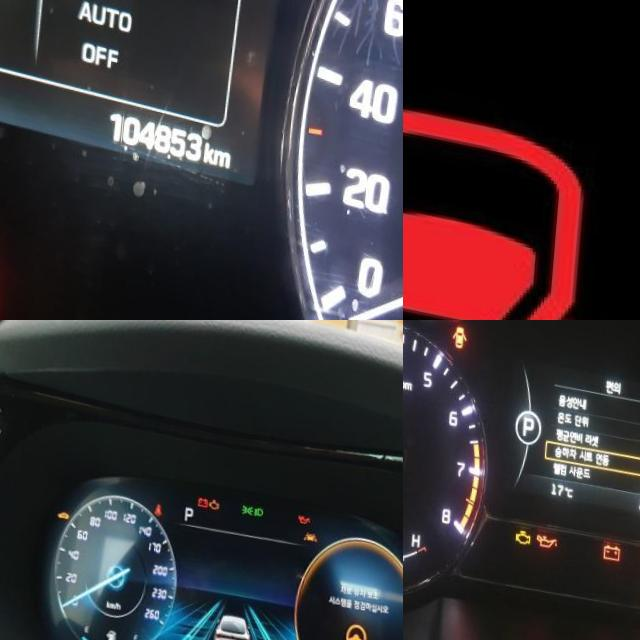LaneCenteringOff: (307, 512, 320, 524)
Low beam: (257, 490, 266, 501)
SideLamp: (244, 487, 257, 501)
